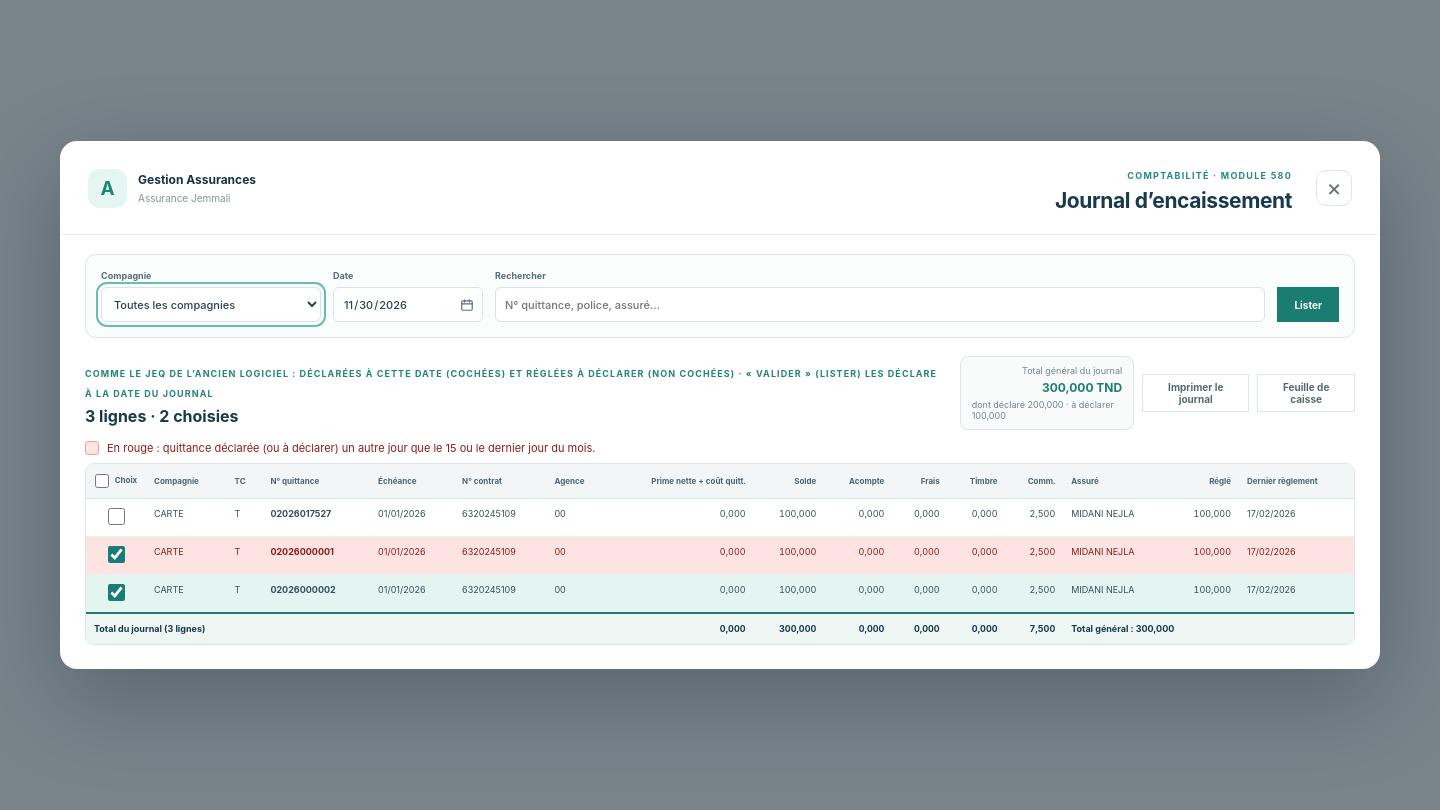
Test case: encaissement: the quittances comptabilisées in the journal ticked, those to declare unticked, no validation column, red when declared off the 15th / end of mont
Expected: the button "Lister" is shown, [1277,287,1339,322]
Type "2026-11-15" into the date field labelled "Date".
click(408, 304); type("2026-11-15")  # box [333,287,483,322]
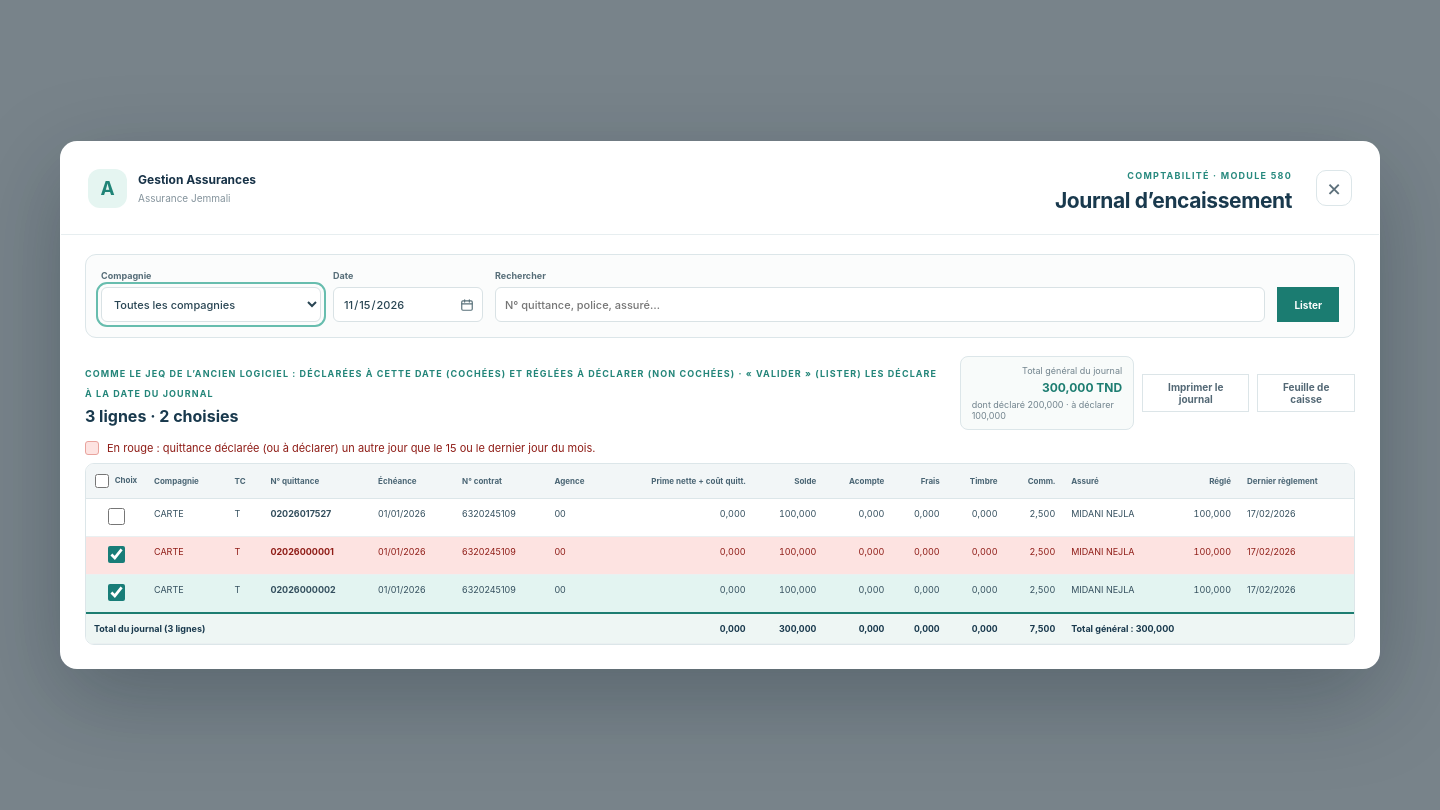
Expected: the checkbox named "Choisir 02026017527" is not checked, [108,508,124,525]
Expected: the checkbox named "Choisir 02026000002" is checked, [108,584,124,601]
another date: listed again for that date
Type "2026-11-12" into the date field labelled "Date".
click(408, 304); type("2026-11-12")  # box [333,287,483,322]
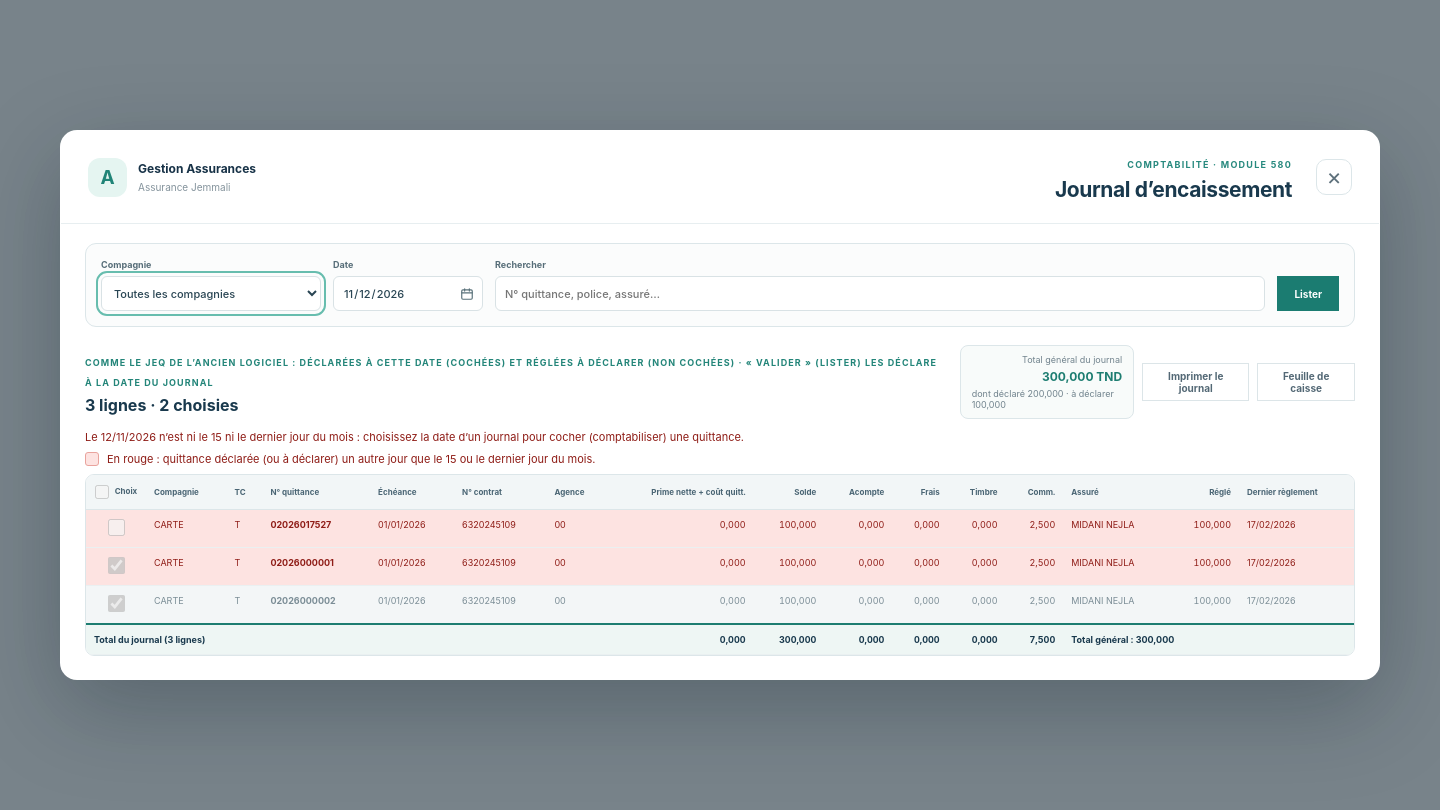
Result: the checkbox named "Choisir 02026017527" is disabled at [108,519,124,536]
Result: the text "n’est ni le 15 ni le dernier jour du mois : choisissez la date d’un journal" is shown at [156,430,744,444]
Click the button "Lister".
click(1308, 294)  # box [1277,276,1339,311]
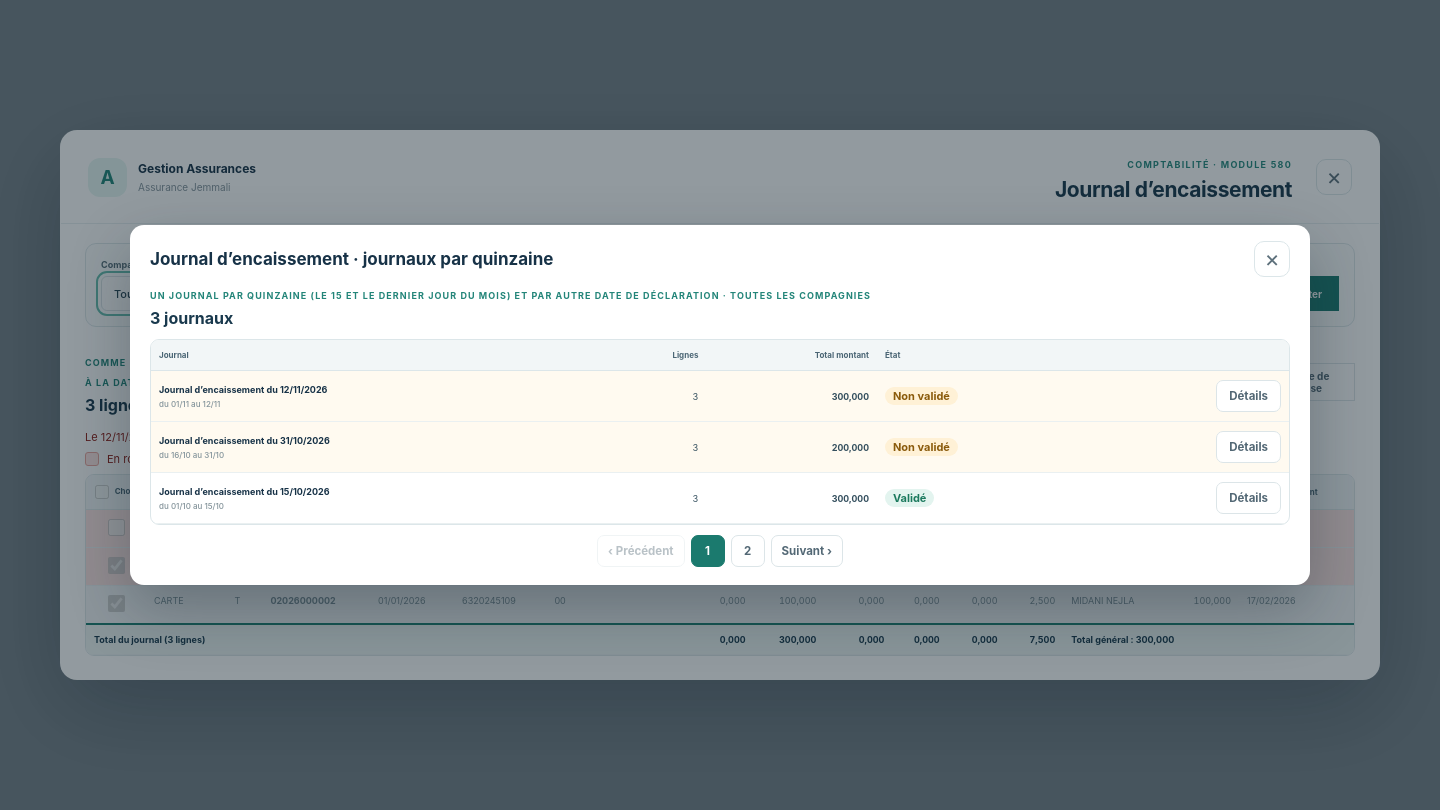
Expected: the text "02026017527" is shown, [270,519,331,530]
Result: the dialog "Journal d’encaissement · journaux par quinzaine" is shown at [130,225,1310,585]
